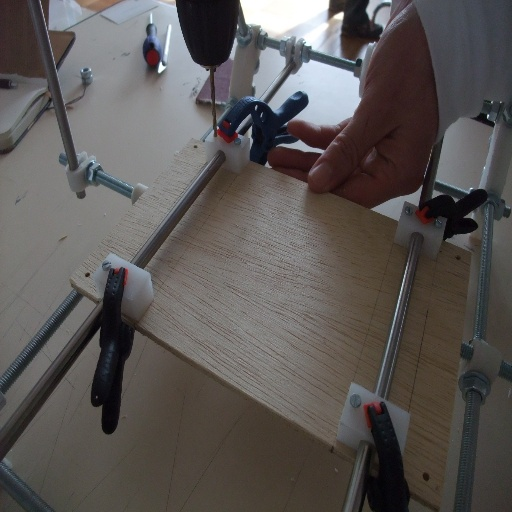hand: (266, 2, 436, 209)
